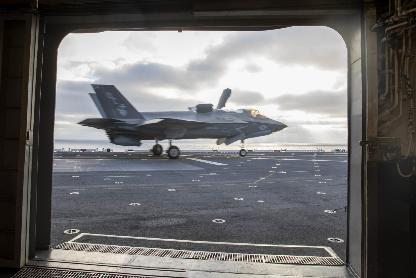F22: (76, 83, 288, 157)
